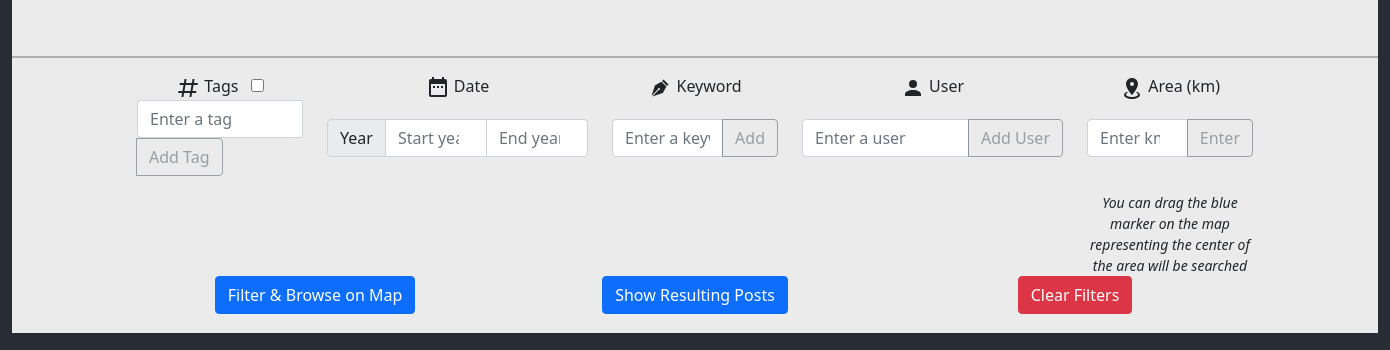
Clicks on add a tag successfully
The width and height of the screenshot is (1390, 350).
In the field with placeholder "Enter a tag": (220, 119) [137, 100, 303, 138], type "tag1"
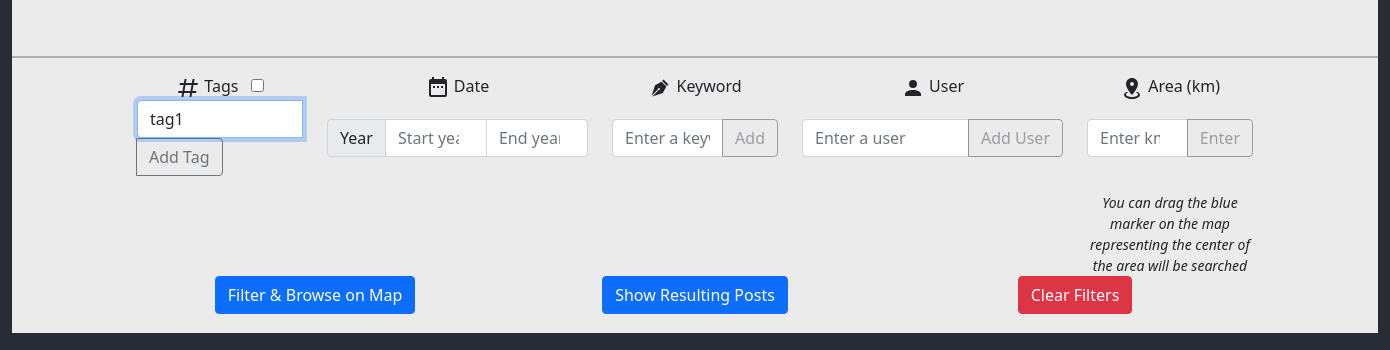
Click the button "Add Tag": (179, 157) [136, 138, 222, 176]
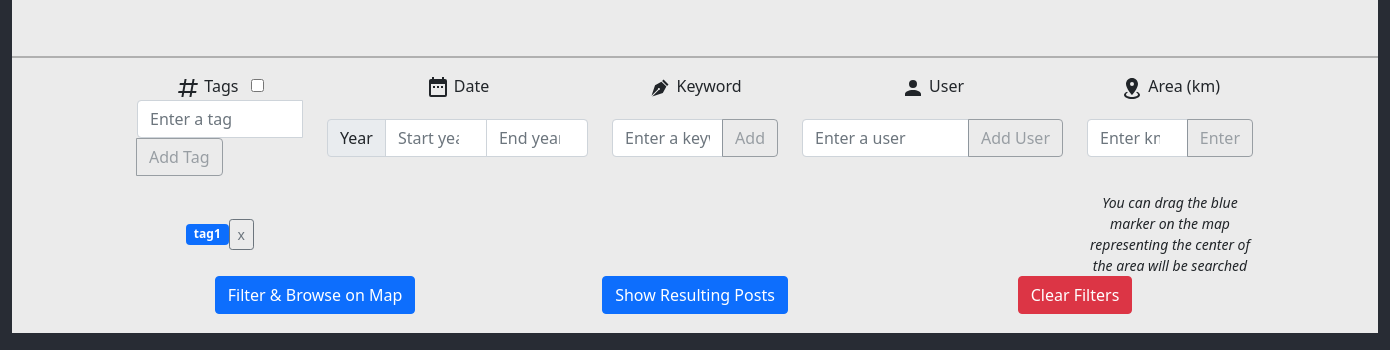
Now the text "tag1" is shown, box [186, 224, 228, 245]
